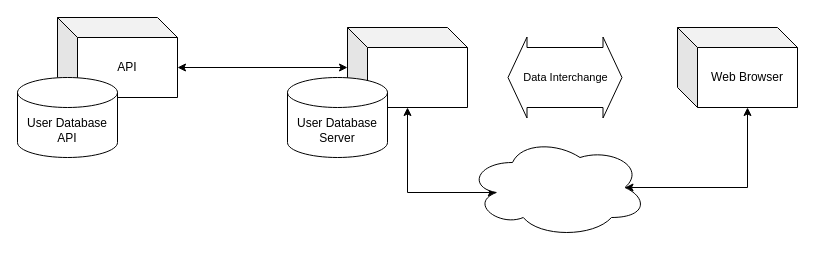
Some shapes in this 815 by 255 pixel diagram are drawn without their labels. The shapes that lost their labels are listed below. From the top down, each one's centre as x and y in pixels, then its label:
(x=407, y=67): Web Server
(x=557, y=187): Internet Infrastructure
